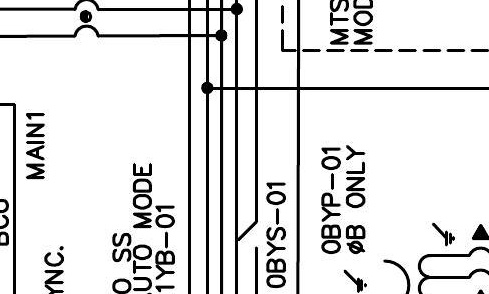115_ds: (238, 221, 259, 251)
